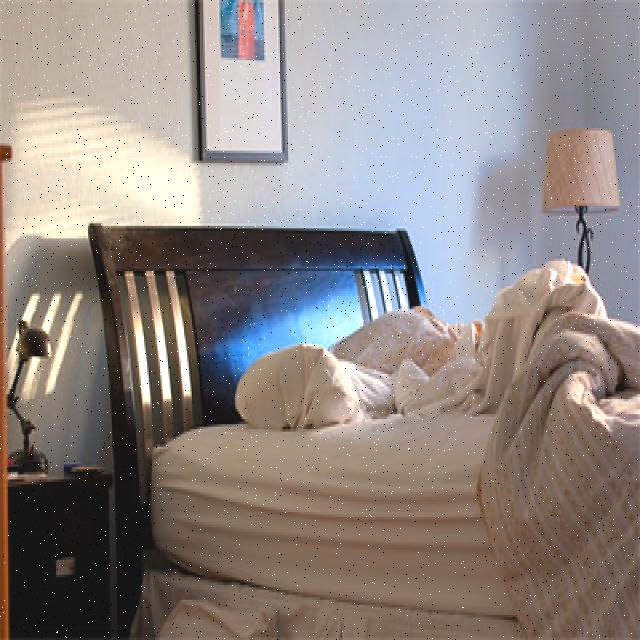bed: (110, 233, 640, 620)
